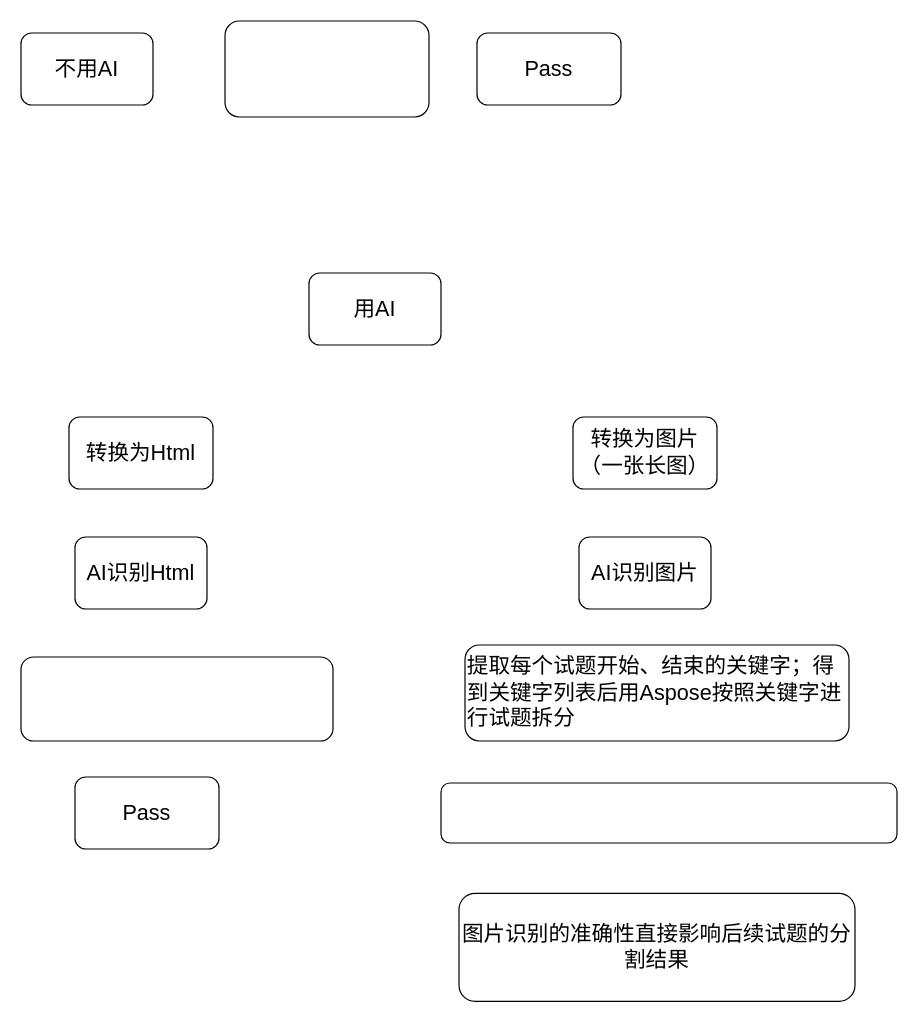
The diagram is 918 pixels wide and 1022 high, and some of its shapes have lost their labels. The shapes that lost their labels are listed below. From the top down, each one's box as (x1, y1, x2, y2) in pixels, then its label:
(224, 20, 429, 117): 金卷作业的模式：严格设置规则，按规则制作word
(20, 656, 333, 741): 超过token限制，不相干字符非常多，过滤后仍然很多
(440, 782, 897, 843): 大模型对图片友好，普遍支持10M大小的图片
